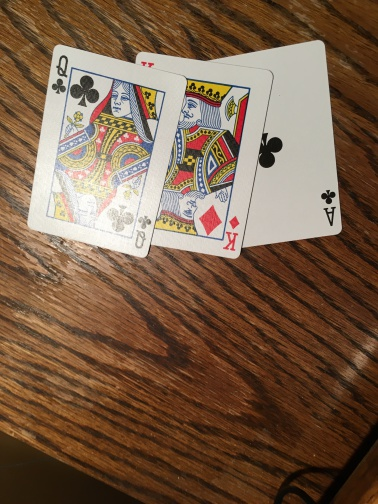ace: (260, 36, 343, 244)
king: (153, 54, 273, 260)
queen: (26, 43, 187, 258)
